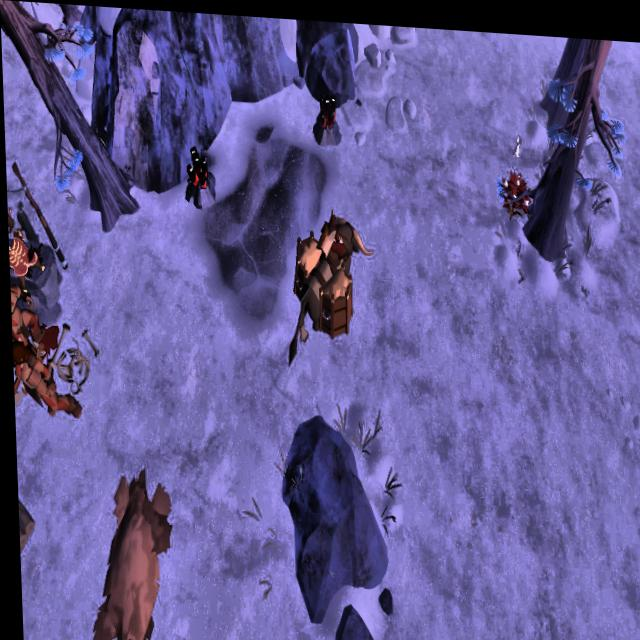enemy_factionKeeper: (10, 335, 79, 425), (8, 278, 42, 352)
fiber_t5: (499, 162, 532, 210)
ore_t5: (184, 140, 209, 190), (313, 84, 339, 131)
